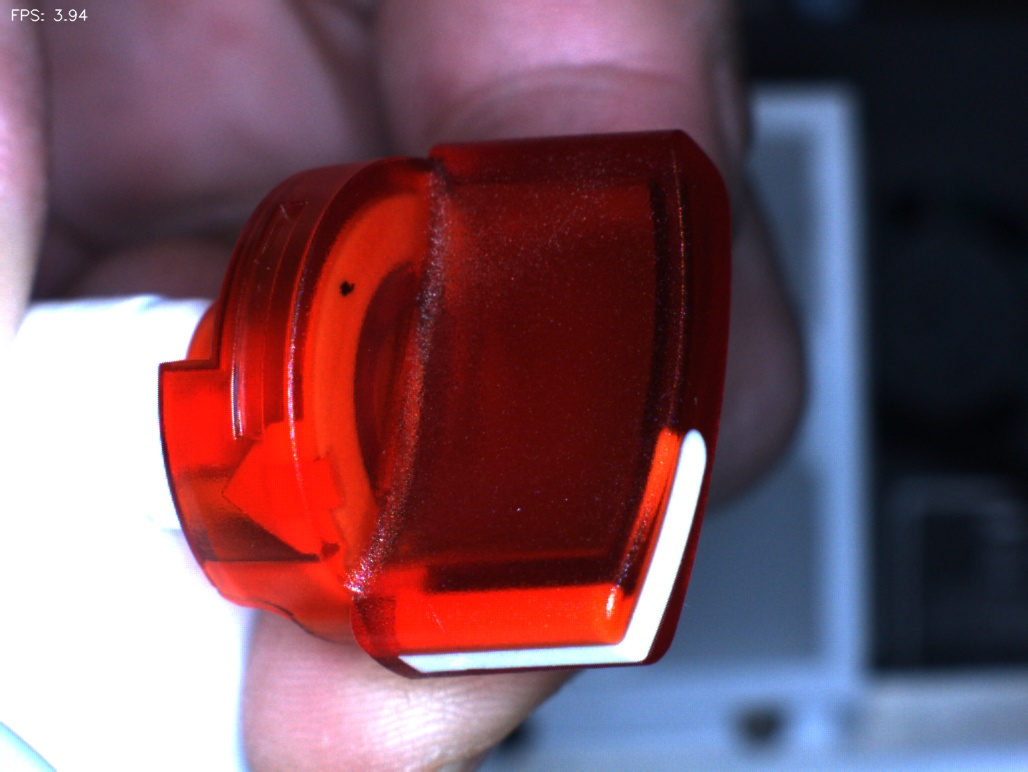PointNoir: (305, 244, 376, 316)
